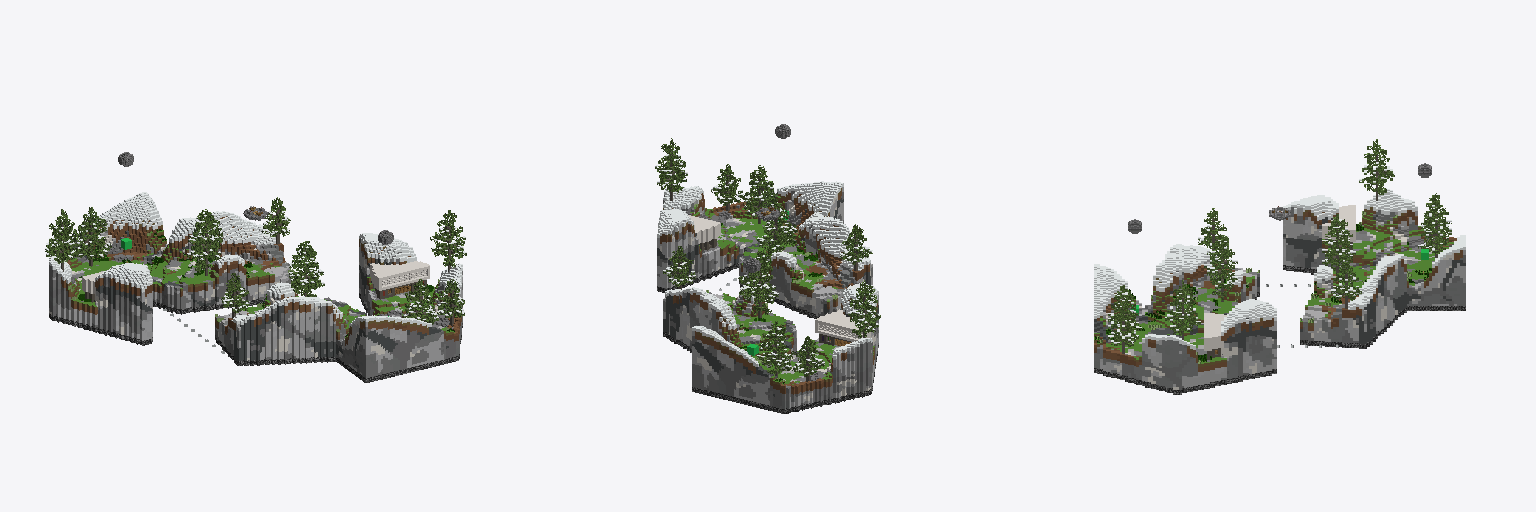
3 views of the same model, side by side, from view 1: azimuth 30°, elevation 25°; view 2: azimuth 150°, elevation 25°; view 3: azimuth 270°, elevation 25° (orthographic).
Bounding box in the file's own units: 132 × 50 × 132.
53 materials, 14 textured.